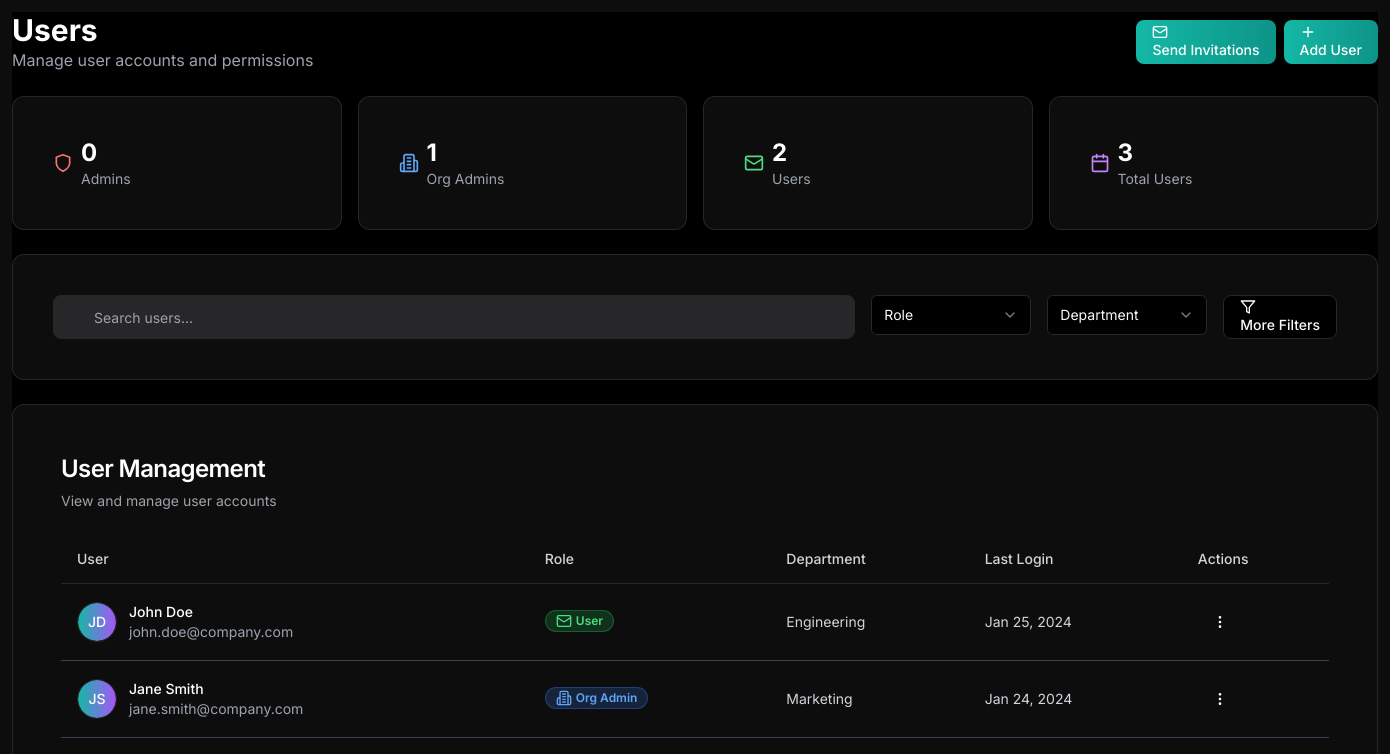
Scenario: UsersPage › User Actions › shows edit option in dropdown
This screenshot has width=1390, height=754.
Step 1. Click the button without text in the row of "JD" → (1220, 622), box 1198,600 -> 1242,644
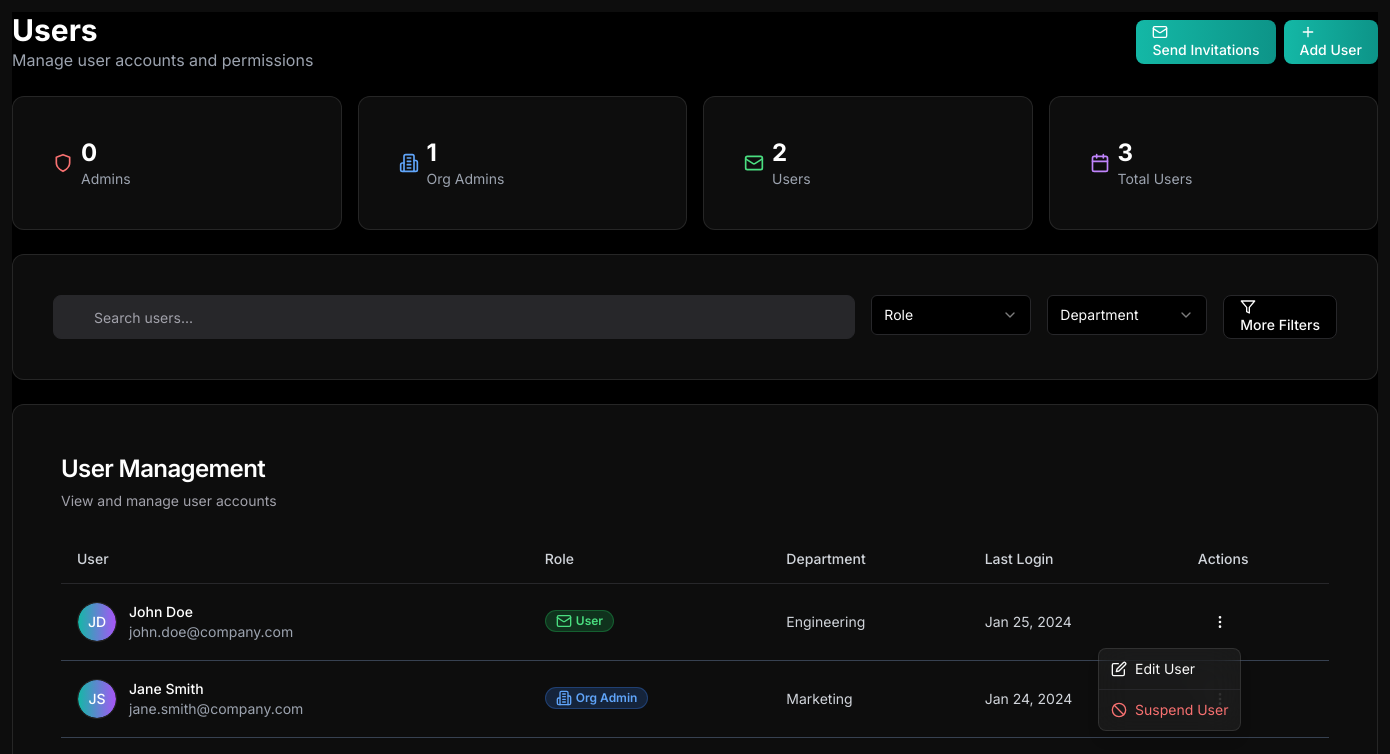
Expected: the menu item "Edit User" is shown, 1111,660 -> 1195,677
